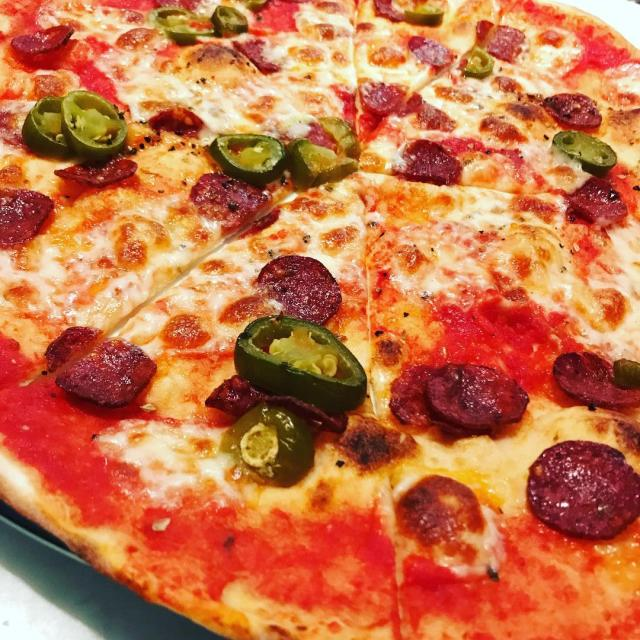pepperoni: (530, 434, 635, 544), (49, 320, 163, 414), (210, 376, 351, 438), (423, 358, 527, 431), (250, 253, 340, 333), (190, 174, 280, 243), (546, 347, 640, 411), (53, 157, 154, 206), (394, 132, 466, 192), (0, 179, 53, 251), (471, 17, 531, 71), (538, 86, 602, 132), (568, 175, 622, 229), (404, 32, 463, 73), (354, 77, 406, 116), (12, 18, 65, 56), (237, 35, 276, 74)
